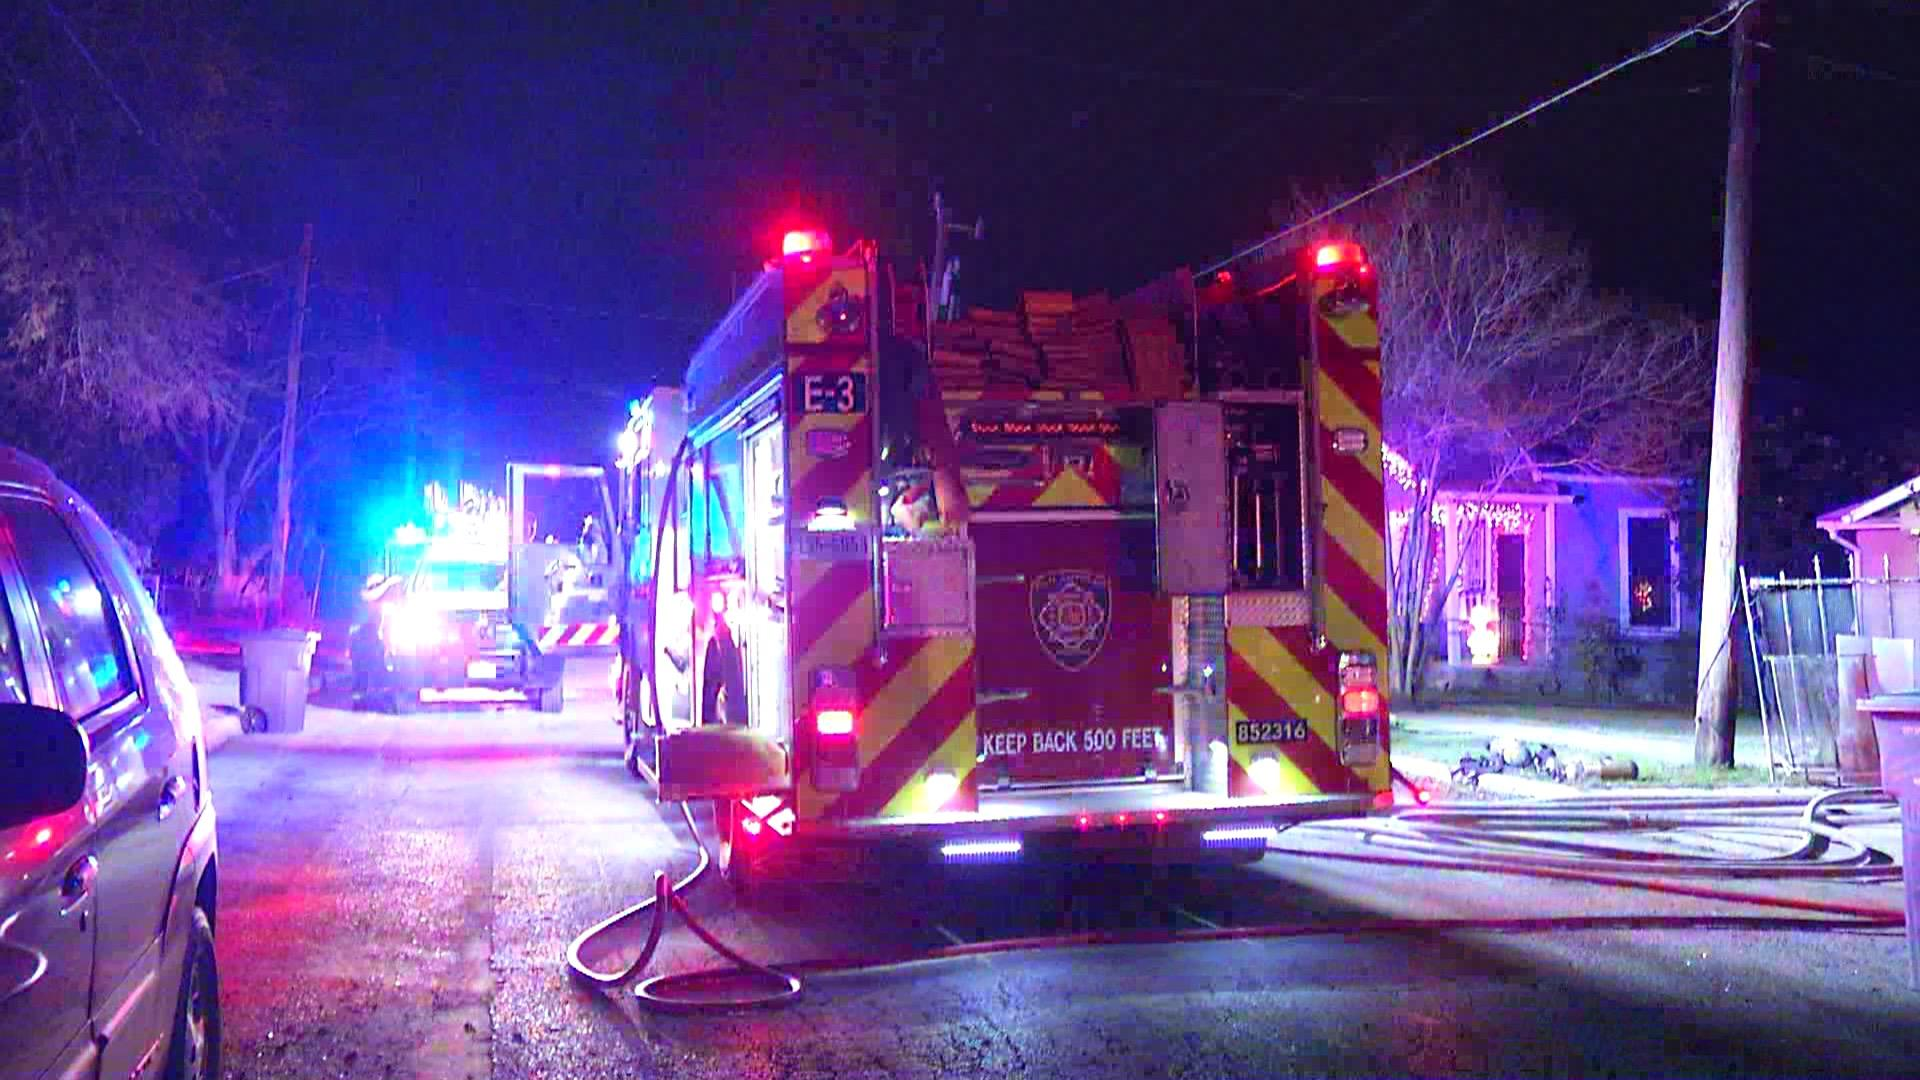firetruck_on: (501, 218, 1391, 910)
